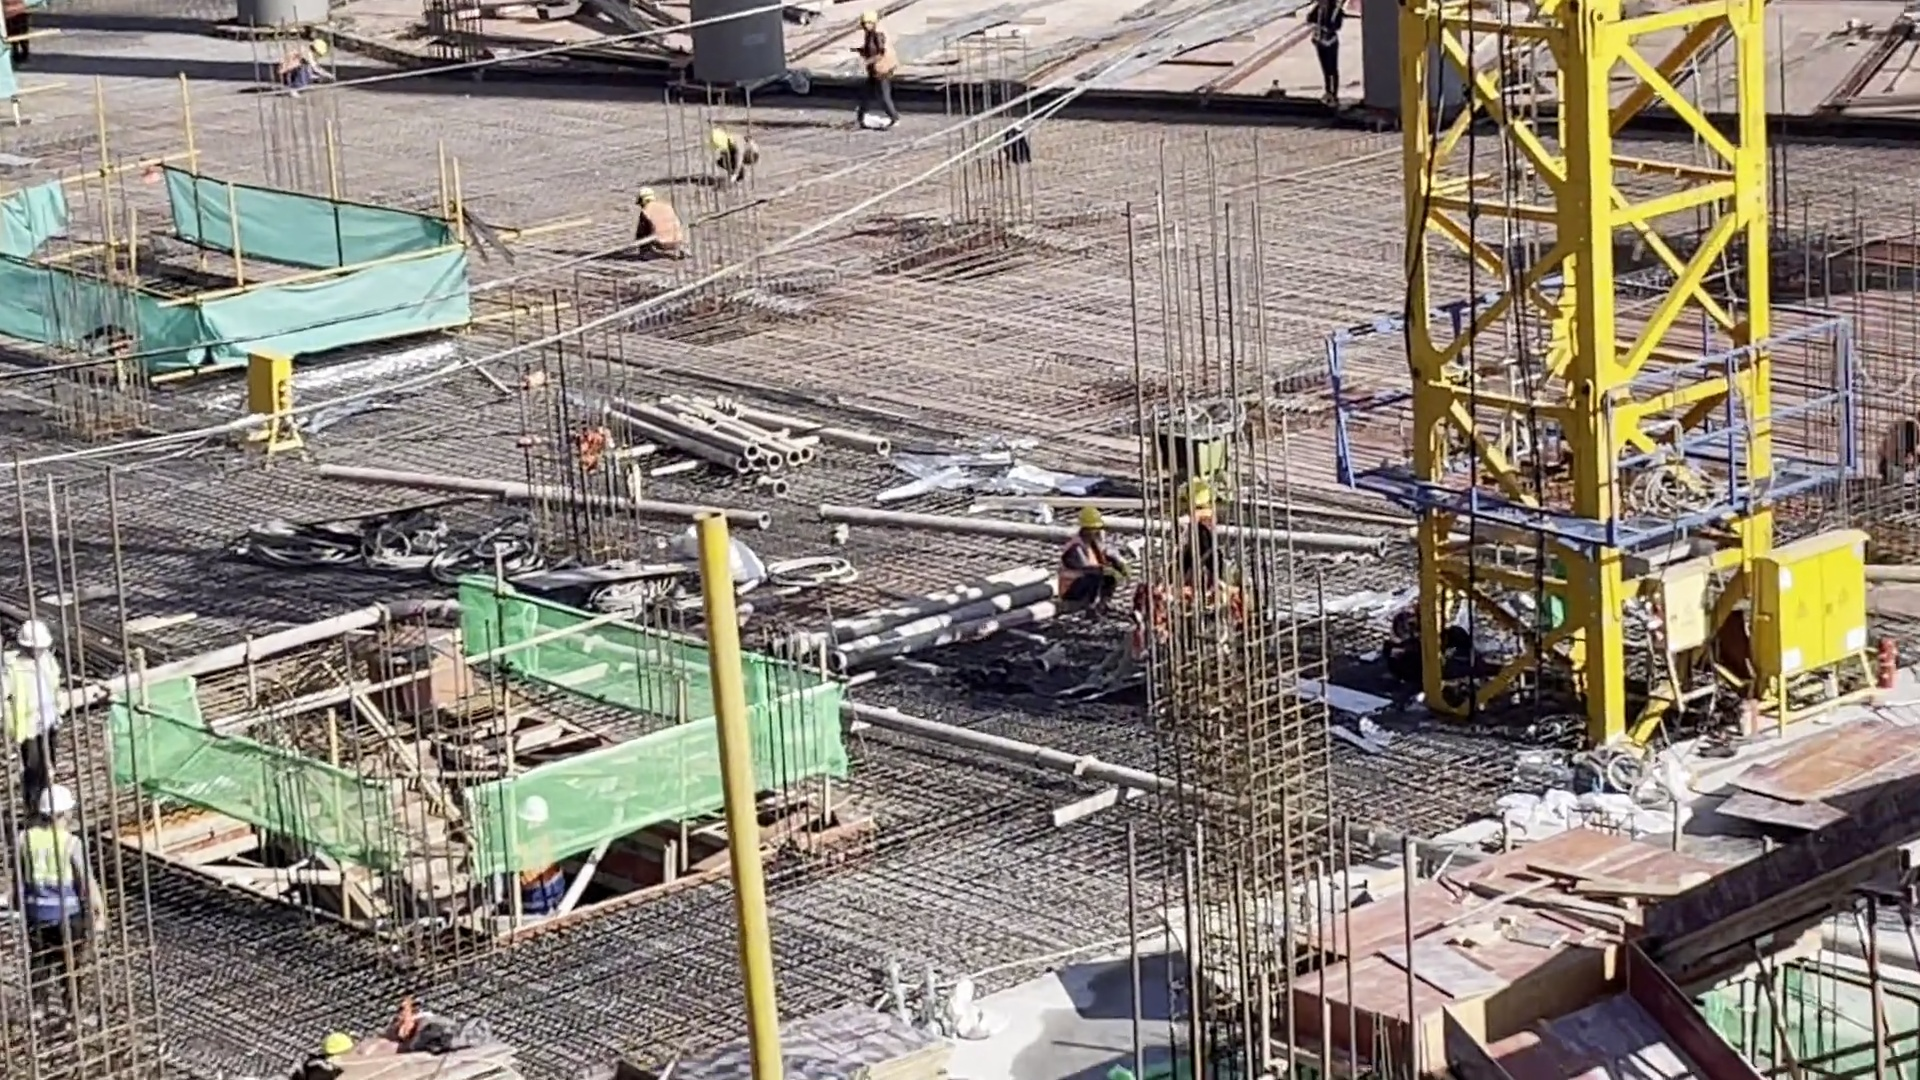helmet: (15, 618, 60, 651), (229, 654, 268, 691), (41, 788, 81, 824), (315, 1030, 354, 1059), (1074, 500, 1109, 527), (858, 12, 886, 30), (711, 126, 731, 151), (638, 186, 654, 201)
person: (9, 789, 97, 1009), (1, 618, 71, 802), (212, 658, 270, 859), (1051, 502, 1137, 629), (702, 828, 756, 959), (851, 11, 903, 127), (621, 187, 684, 260), (1307, 1, 1348, 108), (705, 122, 767, 189)
vest: (18, 826, 82, 926), (1, 660, 67, 747), (215, 692, 262, 784), (1055, 543, 1101, 607), (639, 203, 684, 246), (863, 30, 895, 78)
